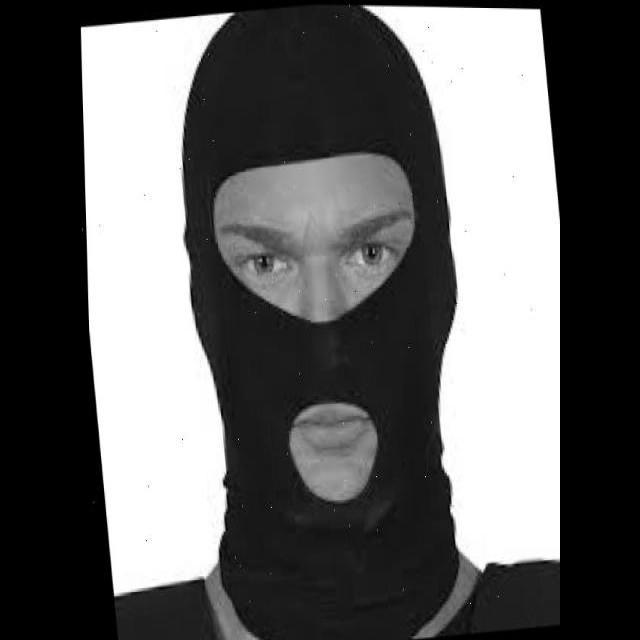6_pasamontana: (179, 6, 457, 640)
